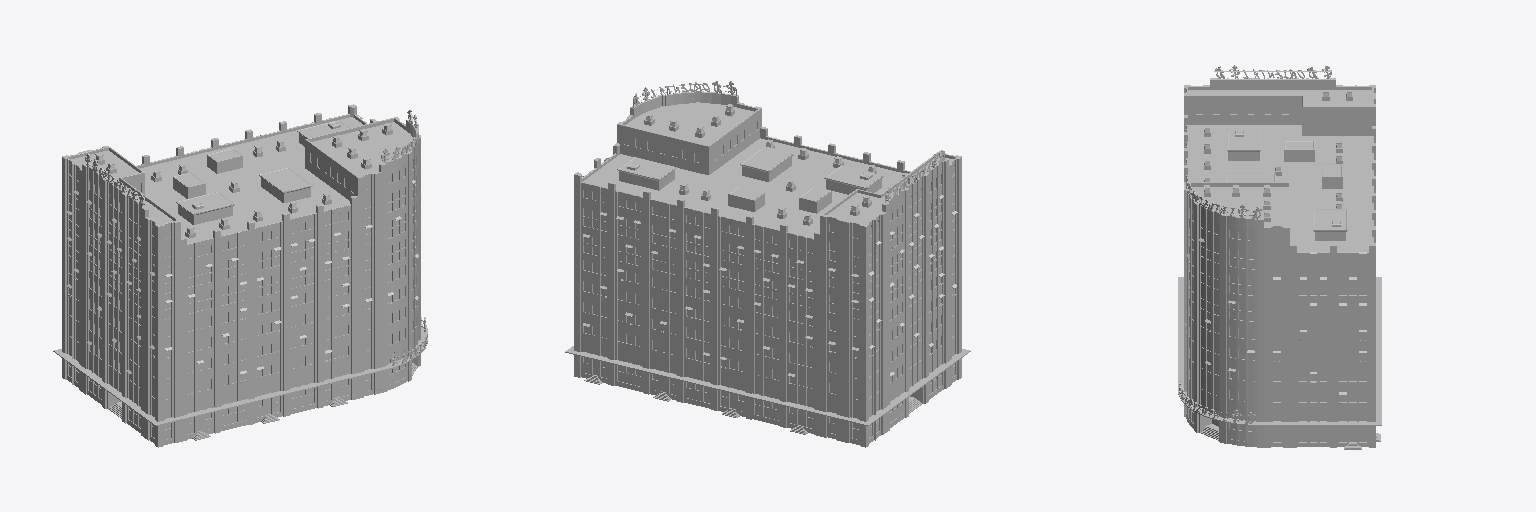
The model's file is Old Building 28.obj.
3 views of the same model, side by side, from view 1: azimuth 30°, elevation 25°; view 2: azimuth 150°, elevation 25°; view 3: azimuth 270°, elevation 25° (orthographic).
Parts seen in each view (by area): view 1: PGCN26_wa02_sl, PGCN26_wa04_sl, PGCN26_wa01_sl, PGCN26_wa03_sl; view 2: PGCN26_wa02_sl, PGCN26_wa04_sl, PGCN26_wa01_sl, PGCN26_wa03_sl; view 3: PGCN26_wa04_sl, PGCN26_wa01_sl, PGCN26_wa02_sl, PGCN26_wa03_sl.
Boxes of the visible parts, x1=… form: PGCN26_wa02_sl: x1=62, y1=146, x2=289, y2=447; PGCN26_wa04_sl: x1=211, y1=104, x2=420, y2=414; PGCN26_wa01_sl: x1=53, y1=115, x2=427, y2=425; PGCN26_wa03_sl: x1=74, y1=110, x2=427, y2=440; PGCN26_wa02_sl: x1=718, y1=143, x2=965, y2=447; PGCN26_wa04_sl: x1=574, y1=91, x2=833, y2=410; PGCN26_wa01_sl: x1=565, y1=102, x2=970, y2=425; PGCN26_wa03_sl: x1=584, y1=81, x2=944, y2=434; PGCN26_wa04_sl: x1=1184, y1=175, x2=1375, y2=447; PGCN26_wa01_sl: x1=1178, y1=90, x2=1381, y2=425; PGCN26_wa02_sl: x1=1179, y1=78, x2=1375, y2=281; PGCN26_wa03_sl: x1=1179, y1=65, x2=1380, y2=449.
Bounding box in the file's own units: 66.77 × 50.91 × 39.07.